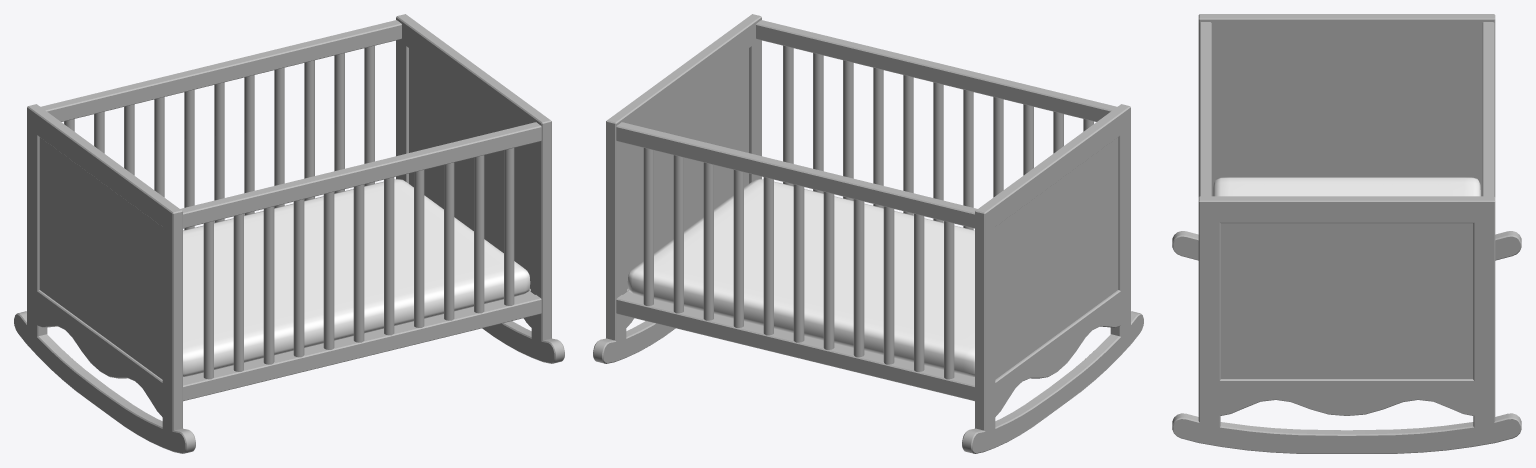
File: Crib_V7.fbx
3 renders of one model, left to right at view 1: azimuth 30°, elevation 25°; view 2: azimuth 150°, elevation 25°; view 3: azimuth 270°, elevation 25°, orthographic.
Visible parts, largest first — view 1: Crib_V7; view 2: Crib_V7; view 3: Crib_V7.
Boxes of the visible parts, x1,y1,x2,y2 form: Crib_V7: (14, 14, 564, 453); Crib_V7: (593, 14, 1143, 453); Crib_V7: (1172, 14, 1521, 453).
Bounding box in the file's own units: 117 × 74 × 92.5.
